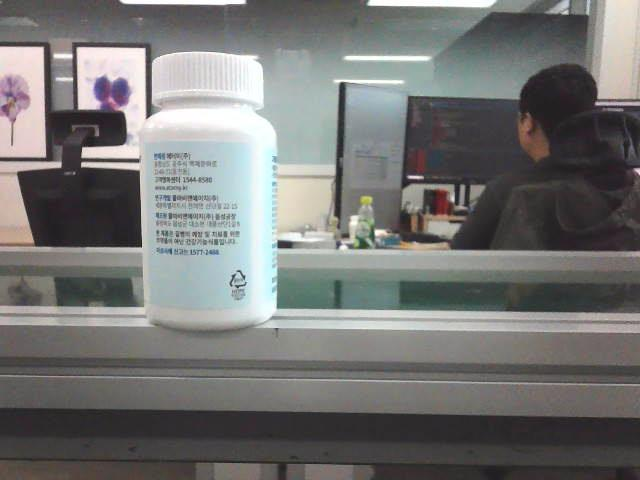labeled: (135, 50, 281, 337)
